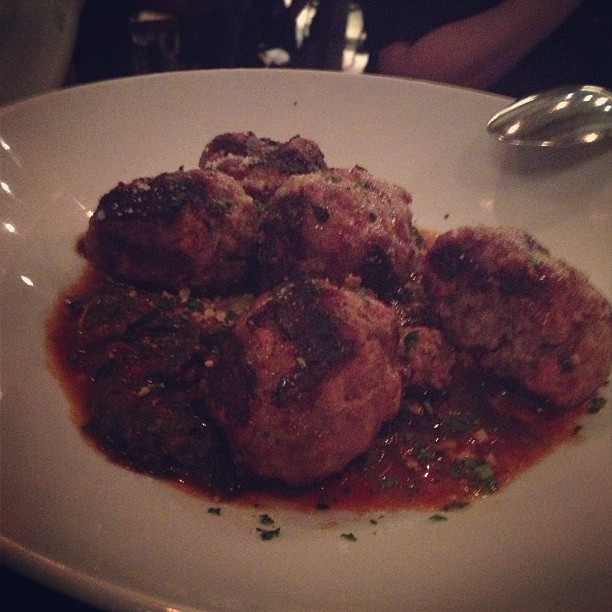meatballs: (418, 214, 608, 403), (205, 292, 395, 467), (87, 171, 250, 278), (270, 173, 407, 287)
